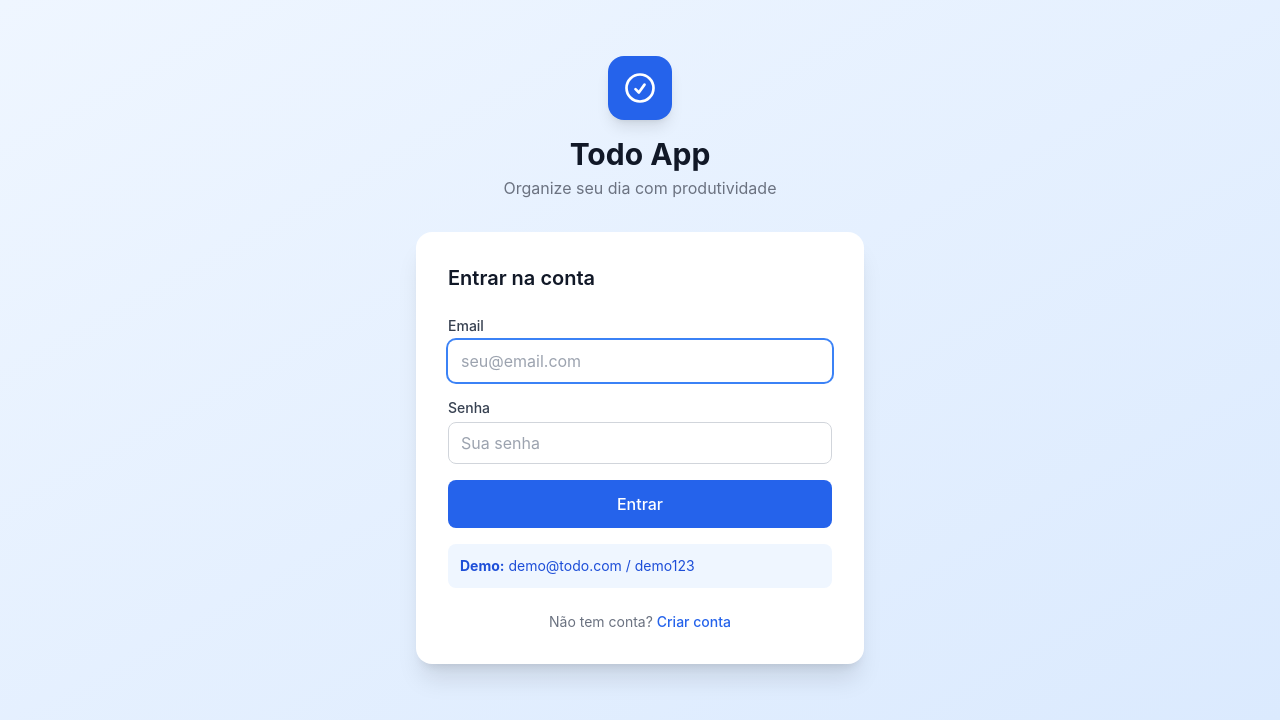
Test case: LoginPage › exibe erro quando login falha
Type "wrong@test.com" into the field labelled "Email" at (640, 361), box [448,340,832,382]
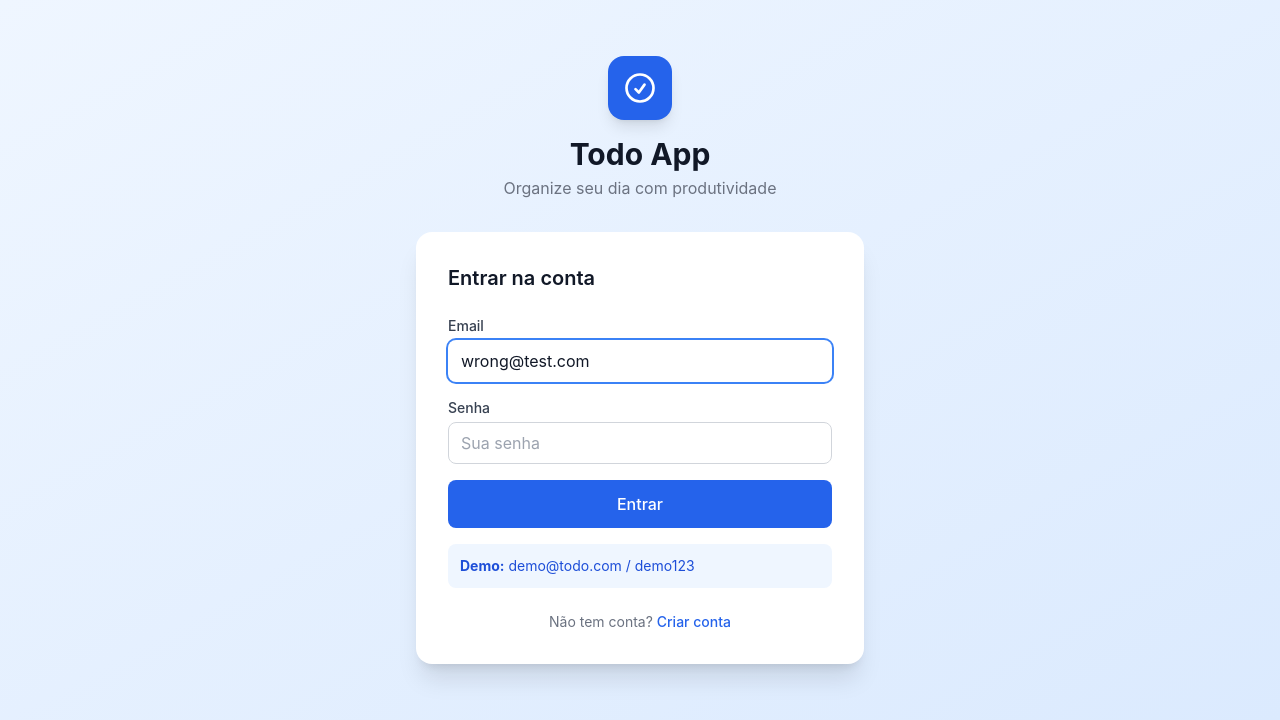
Type "wrongpass" into the password field labelled "Senha" at (640, 443), box [448,422,832,464]
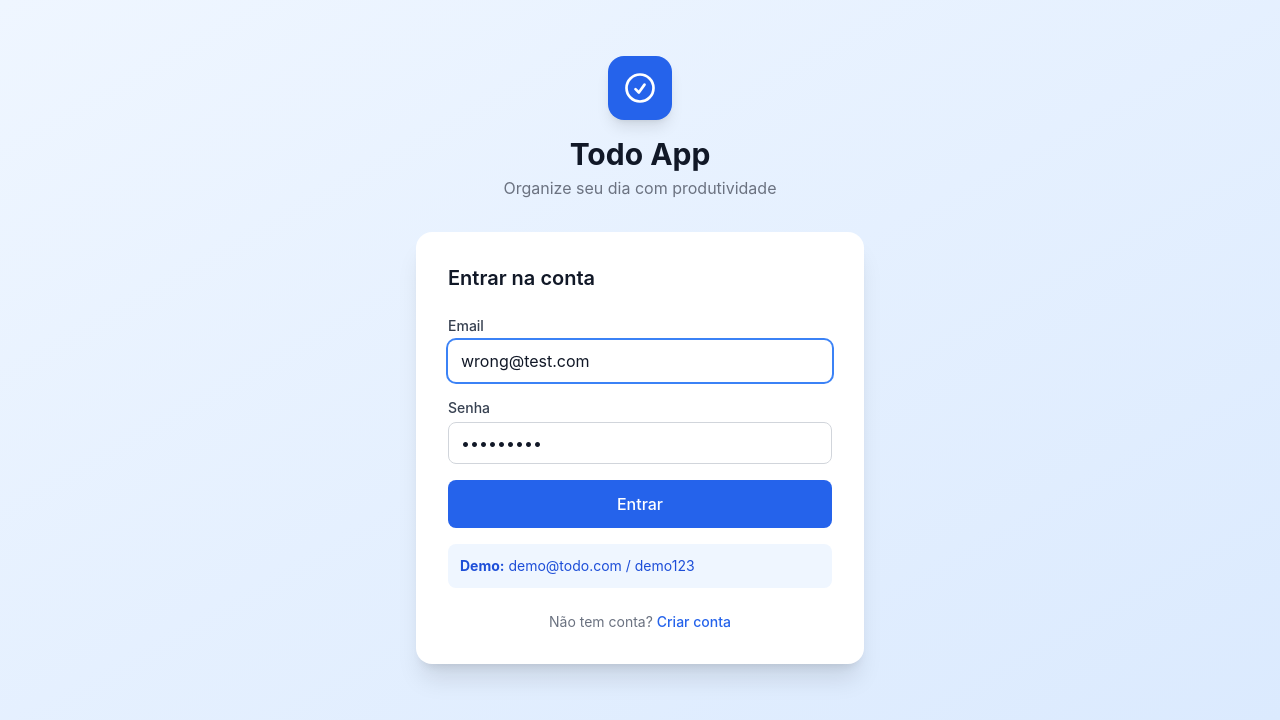
Click the button "Entrar" at (640, 504), box [448,480,832,528]
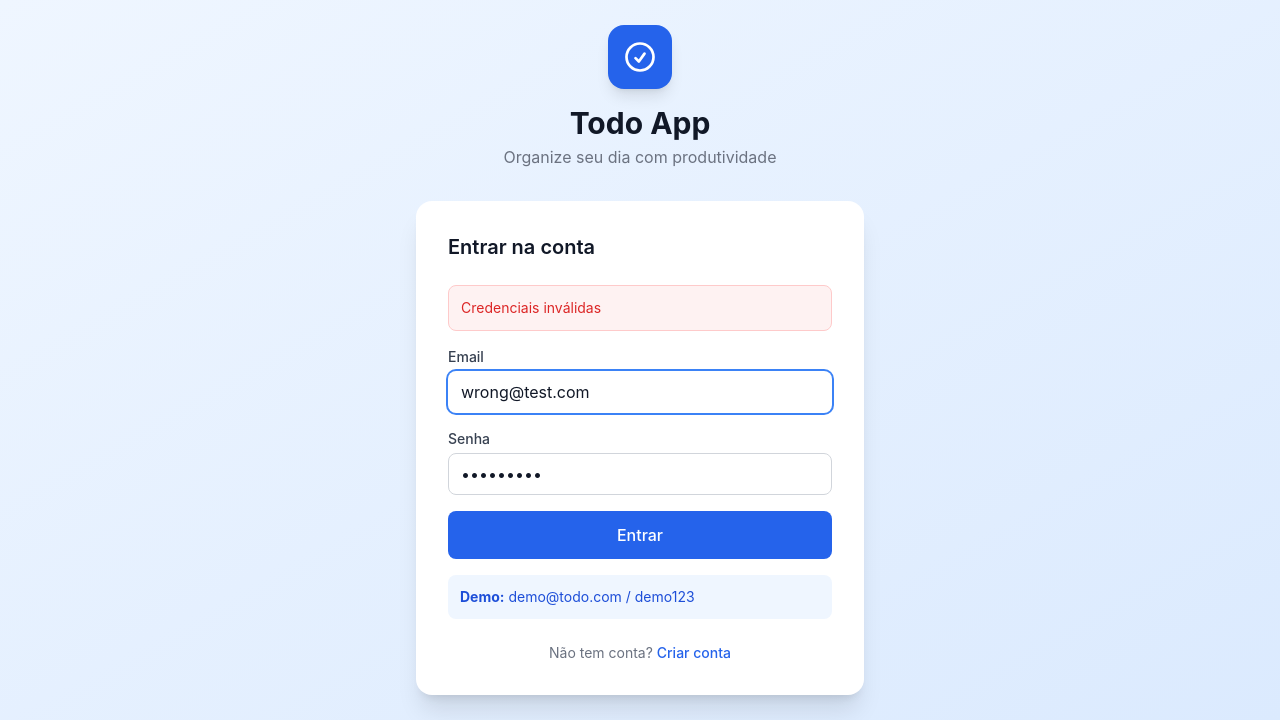
Expected: the text "Credenciais inválidas" is shown, [448,285,832,331]
